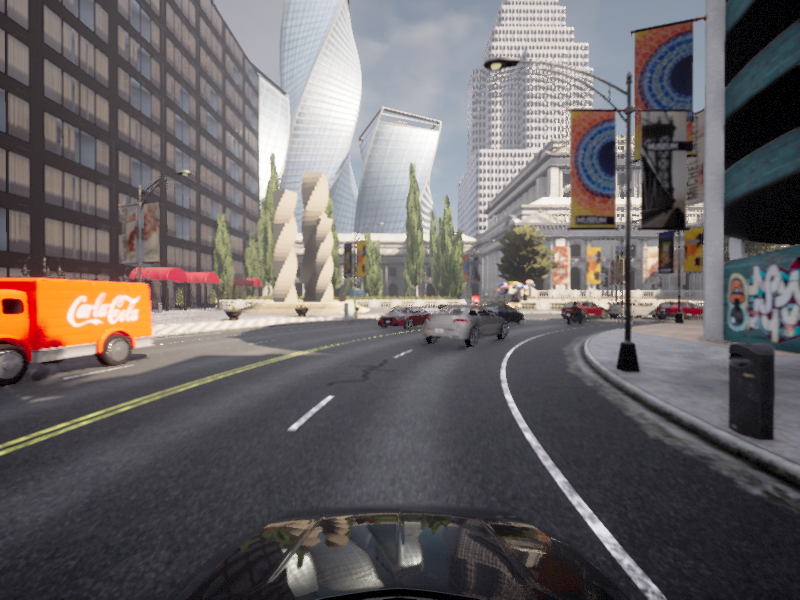vehicle: (415, 303, 510, 350), (373, 305, 436, 331), (467, 303, 527, 327), (707, 300, 779, 319), (650, 300, 713, 320), (556, 300, 611, 321), (603, 300, 662, 319), (657, 302, 722, 317), (562, 301, 589, 325)
